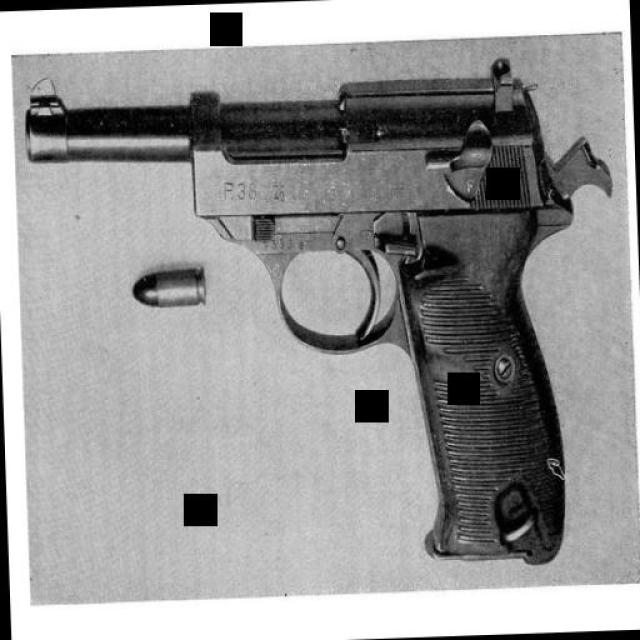gun: (19, 53, 625, 592)
